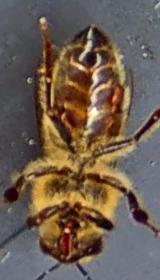varroa_mite: (102, 68, 135, 122)
